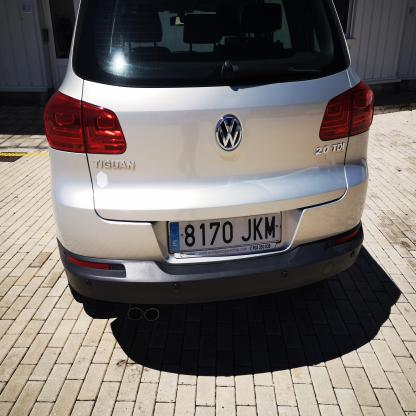patente: (168, 212, 281, 254)
